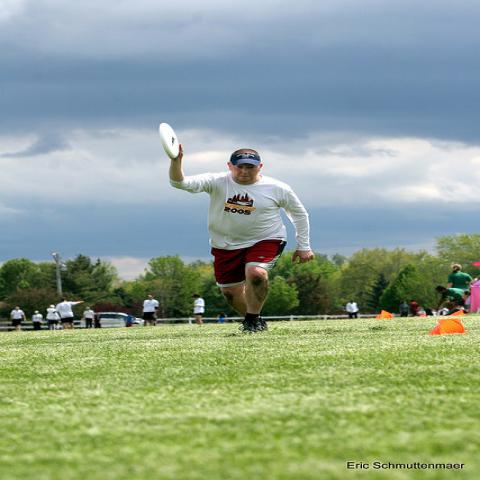car: (73, 312, 145, 328)
